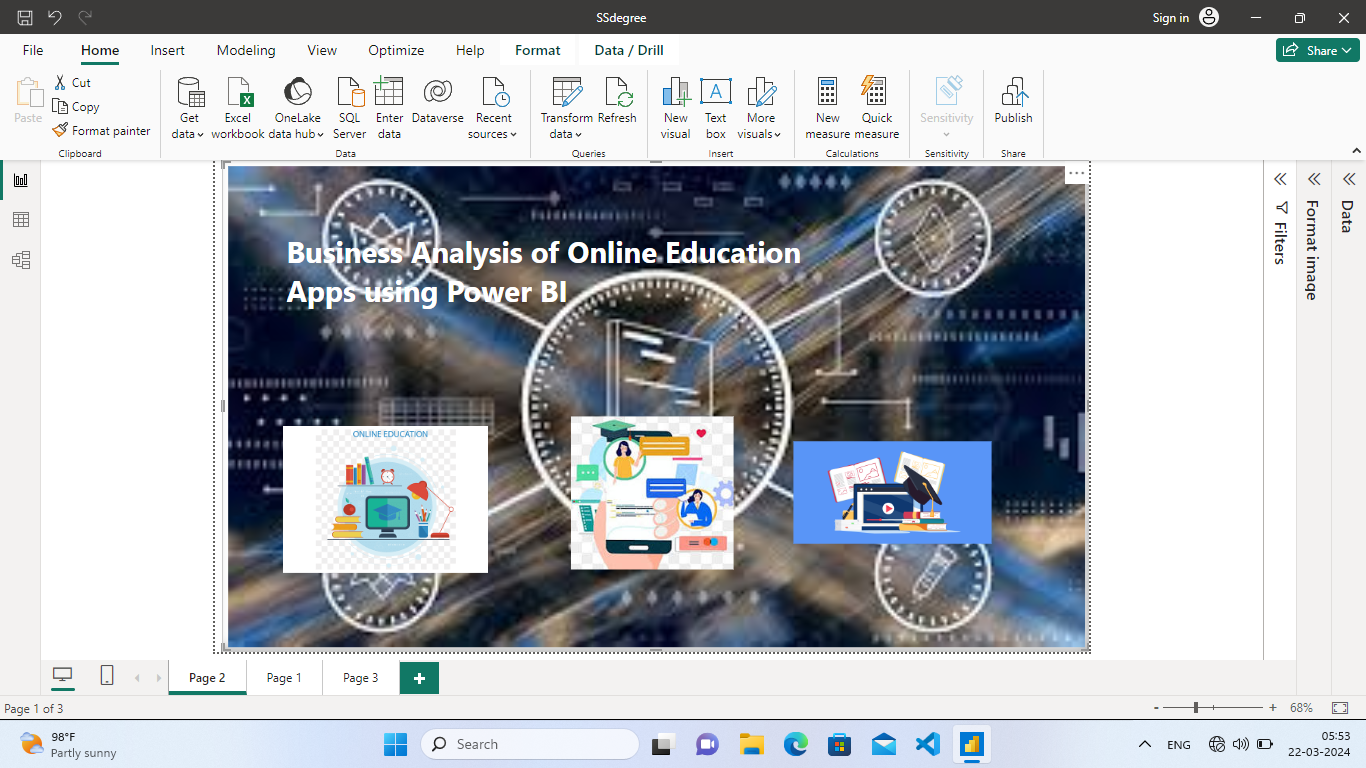

What the dashboard file says about the page in this screenshot:
{"tool":"powerbi","page":{"name":"Page 2","canvas":[1280,720],"ordinal":0},"visuals":[{"type":"image","box":[10.2,0,1270.2,720],"z":0},{"type":"textbox","box":[99.5,99.5,780,158],"z":1000},{"type":"image","box":[99.5,389.3,300,215.1],"z":2000},{"type":"image","box":[463.9,370.2,351.2,234.1],"z":3000},{"type":"image","box":[841.5,336.6,300,300],"z":4000}]}

Visuals, with their boxes on the page's 1280x720 design canvas (x1, y1, x2, y2). These are canvas units, not pixel positions in the 1366x768 screenshot, which may show the page scaled, cropped or inside an application window:
image: region(10, 0, 1280, 720)
textbox: region(100, 100, 880, 258)
image: region(100, 389, 400, 604)
image: region(464, 370, 815, 604)
image: region(842, 337, 1142, 637)
